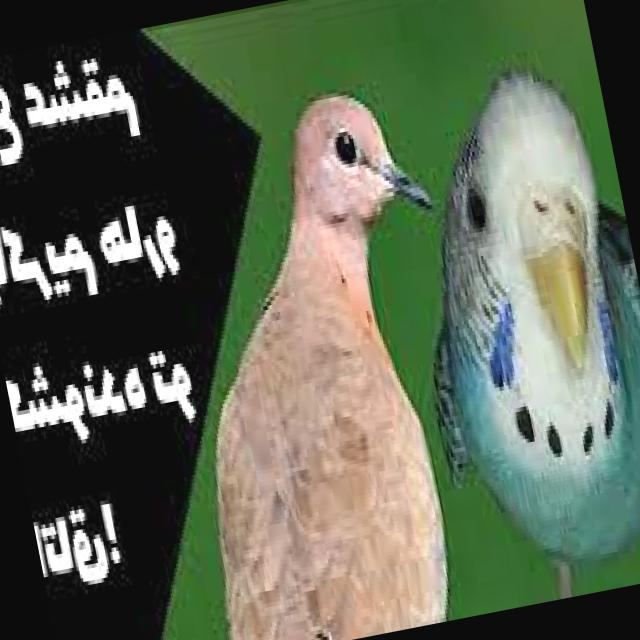bird: (120, 70, 512, 640)
